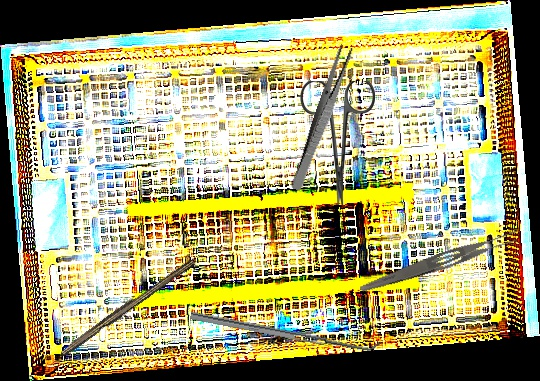Dressing Forceps: (357, 225, 522, 301), (289, 43, 355, 193)
Iris Scissors: (300, 81, 375, 205)
Scalpel Handle: (57, 254, 197, 360)
Spatula Surgical: (189, 304, 382, 356)
